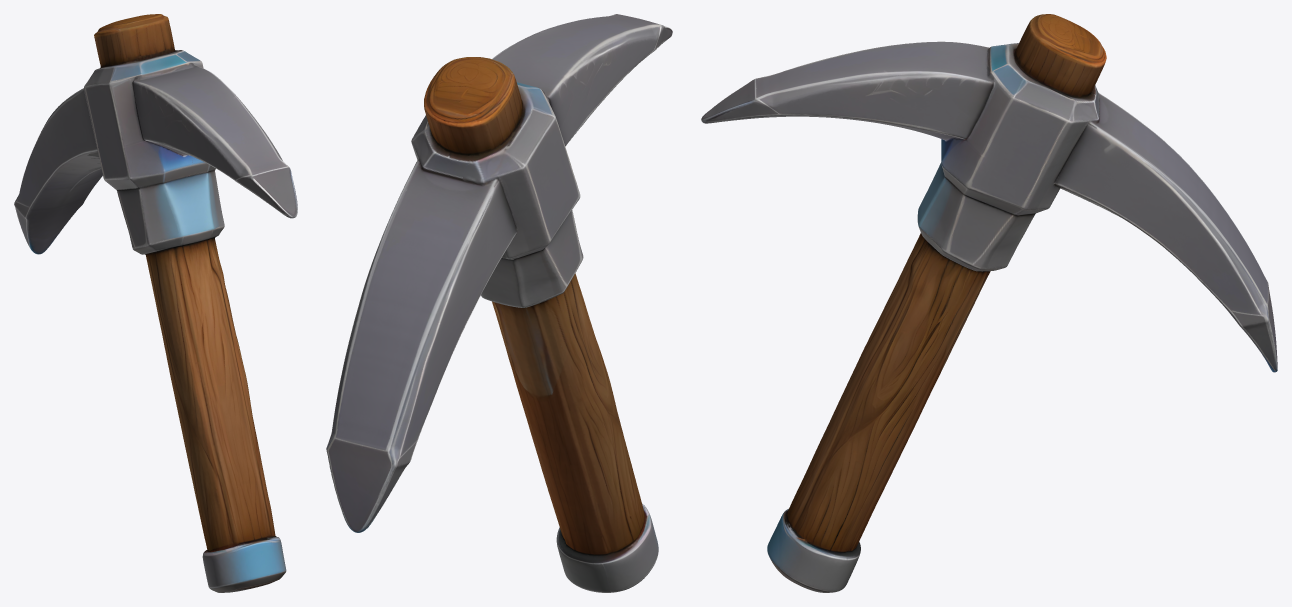
Rendered from Pioche.glb.
The picture shows the model from 3 angles, left to right: view 1: azimuth 30°, elevation 25°; view 2: azimuth 150°, elevation 25°; view 3: azimuth 270°, elevation 25°; orthographic projection. The views are drawn at different scales.
Visible parts, largest first — view 1: tripo_node_5e0c03d0-a019-4dfd-932d-67406a53592c; view 2: tripo_node_5e0c03d0-a019-4dfd-932d-67406a53592c; view 3: tripo_node_5e0c03d0-a019-4dfd-932d-67406a53592c.
Boxes of the visible parts, x1,y1,x2,y2 form: tripo_node_5e0c03d0-a019-4dfd-932d-67406a53592c: (14,14,297,592); tripo_node_5e0c03d0-a019-4dfd-932d-67406a53592c: (326,14,672,592); tripo_node_5e0c03d0-a019-4dfd-932d-67406a53592c: (701,14,1277,592).
Size of the model in its own units: 0.195 by 1 by 0.9266.
Materials: 1 (1 with a texture image).
